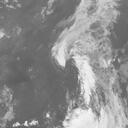cyclone: (52, 23, 122, 102)
